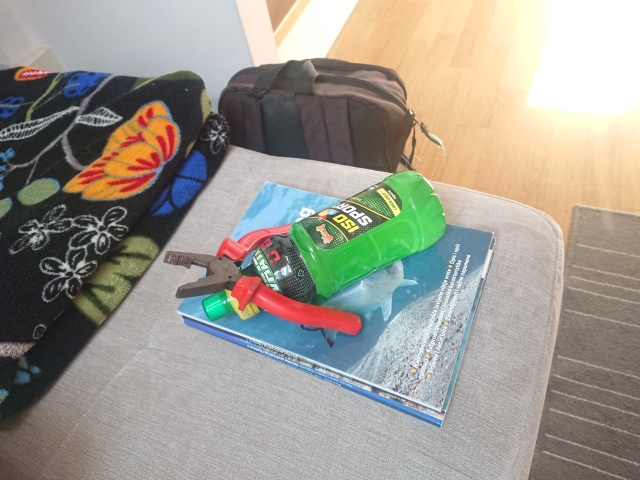Vindi Iso Sport Lemon-Grapefruit 500mL: (199, 168, 450, 324)
